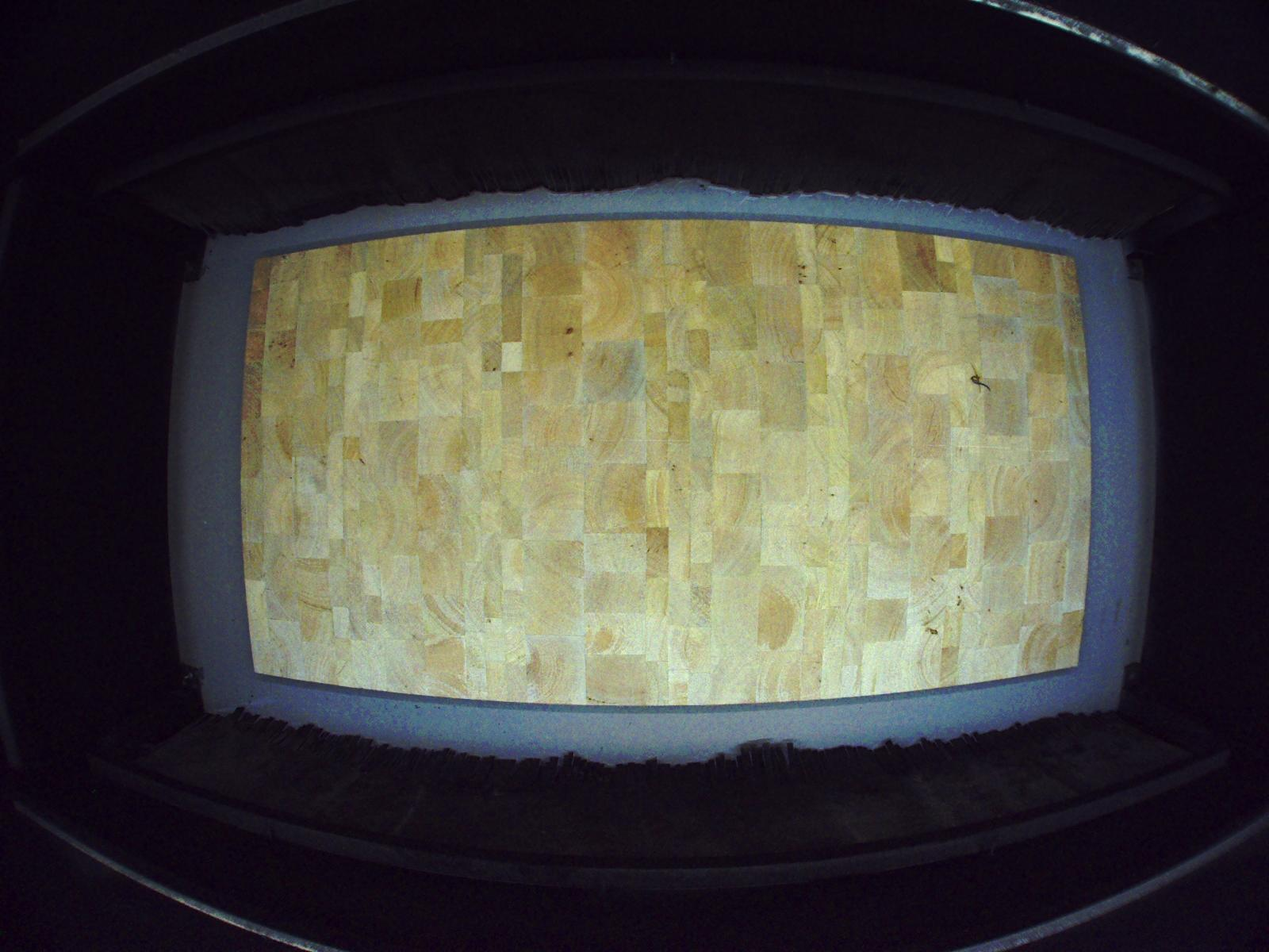sheck_ecuatoriano: (970, 363, 982, 394)
